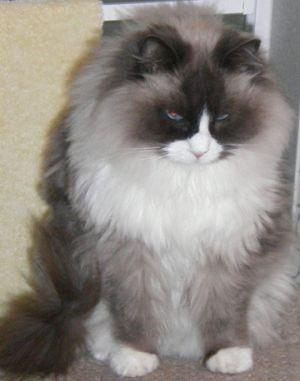ragdoll: (126, 23, 275, 177)
